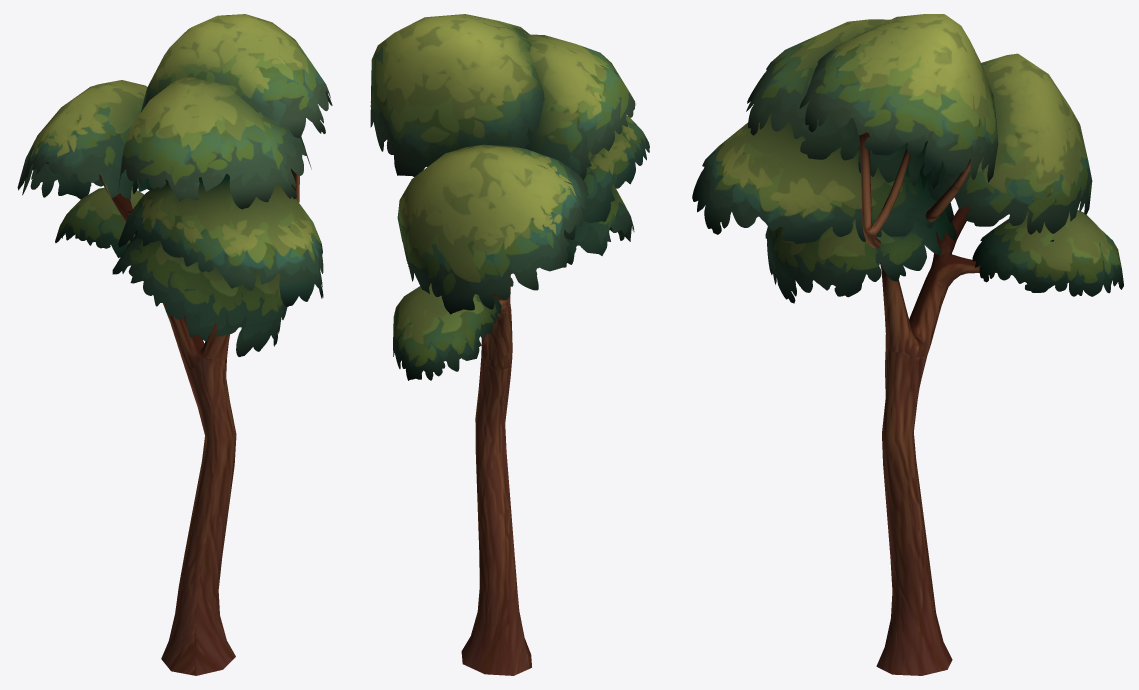
The model's file is Single tree.fbx.
3 views of the same model, side by side, from view 1: azimuth 30°, elevation 25°; view 2: azimuth 150°, elevation 25°; view 3: azimuth 270°, elevation 25° (orthographic). The views are drawn at different scales.
Visible parts, largest first — view 1: LeafTree_Var1; view 2: LeafTree_Var1; view 3: LeafTree_Var1.
Part boxes in pixels (left/top/right/bottom): LeafTree_Var1: left=17, top=14, right=332, bottom=675; LeafTree_Var1: left=370, top=14, right=649, bottom=675; LeafTree_Var1: left=692, top=14, right=1123, bottom=675.
Bounding box in the file's own units: 403 × 958 × 573.
